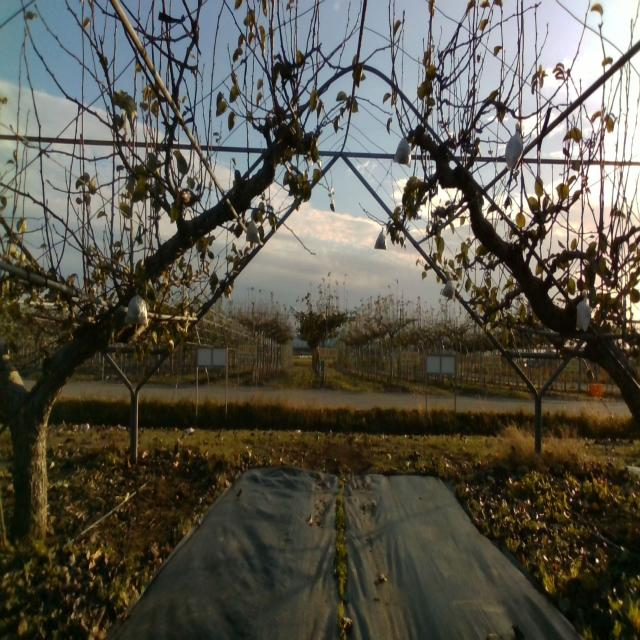pearbags: (122, 287, 148, 328), (504, 123, 524, 169), (394, 132, 412, 166), (576, 296, 592, 332), (245, 218, 262, 243), (442, 276, 457, 302), (374, 228, 387, 250)
